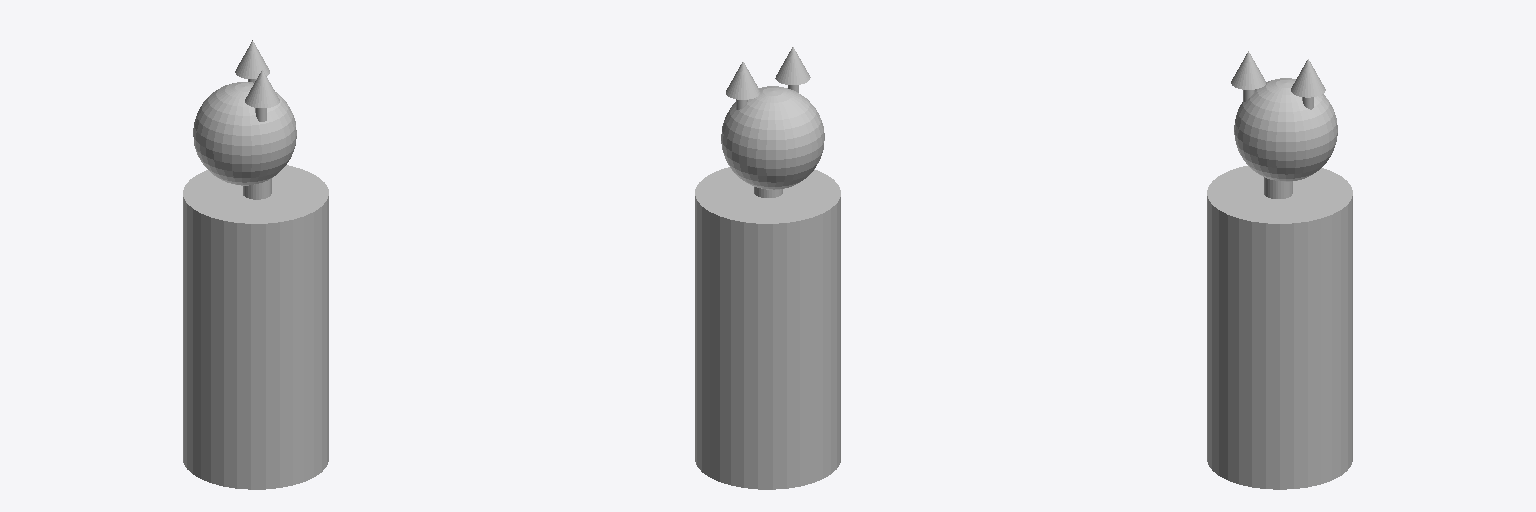
Rendered from totoroavatar.obj.
3 renders of one model, left to right at view 1: azimuth 30°, elevation 25°; view 2: azimuth 150°, elevation 25°; view 3: azimuth 270°, elevation 25°, orthographic.
Visible parts, largest first — view 1: Cylinder.001_Cylinder.002; view 2: Cylinder.001_Cylinder.002; view 3: Cylinder.001_Cylinder.002.
Part boxes in pixels (bbox=[...]): Cylinder.001_Cylinder.002: bbox=[183, 40, 328, 489]; Cylinder.001_Cylinder.002: bbox=[695, 47, 840, 489]; Cylinder.001_Cylinder.002: bbox=[1207, 51, 1352, 489].
Size of the model in its own units: 2 by 6.12 by 2.